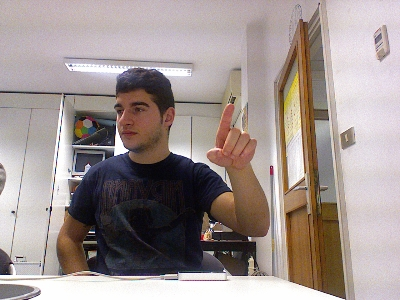食指: (206, 102, 257, 171)
